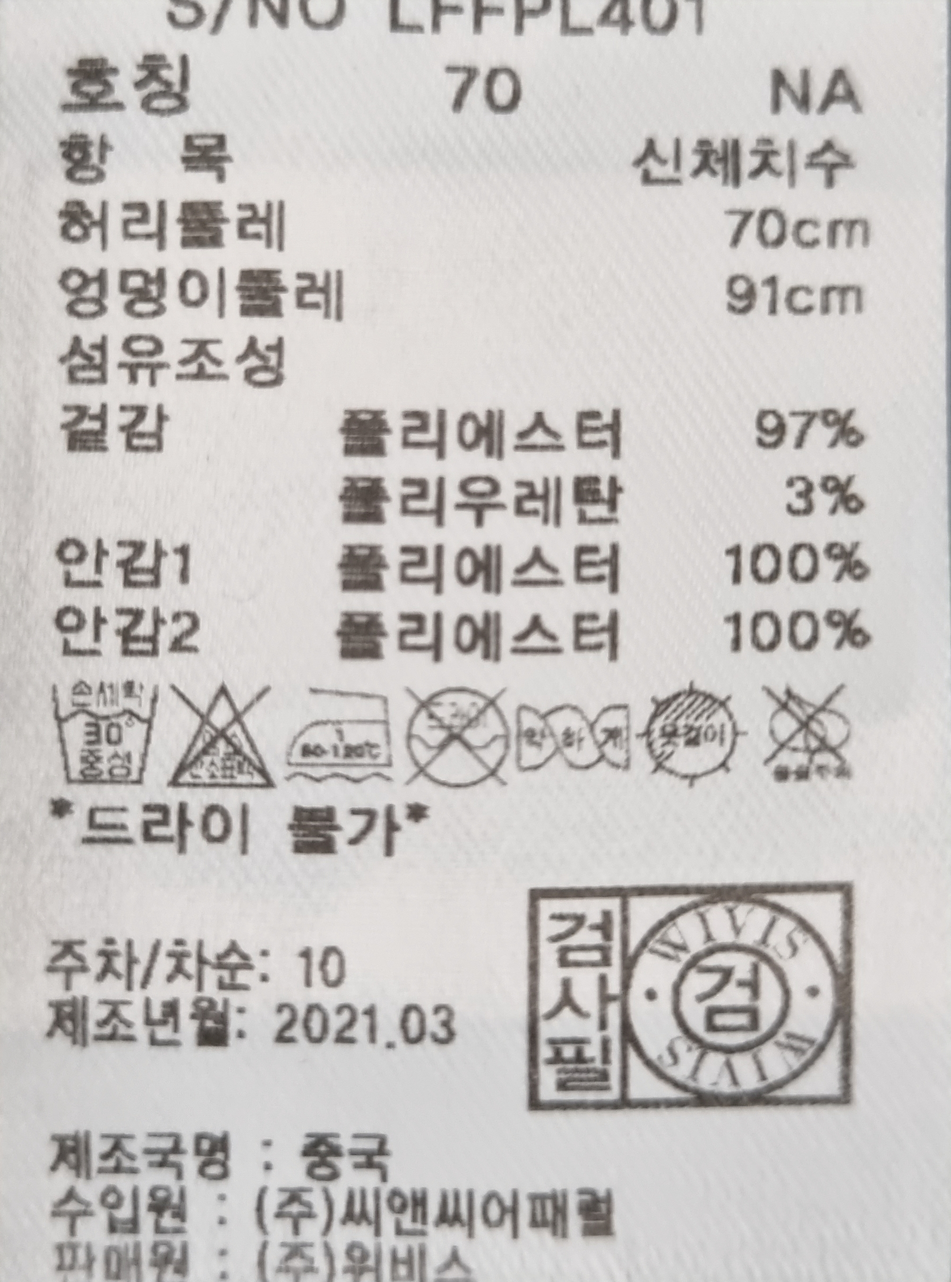KR_gentle_wring: (512, 687, 638, 788)
KR_hand_wash_30_neutral: (41, 670, 163, 796)
KR_hang_dry_in_shade: (635, 679, 752, 786)
KR_iron_low_temp_with_cloth: (279, 674, 402, 795)
KR_no_bleach: (162, 671, 282, 797)
KR_no_dry_clean: (402, 677, 513, 798)
